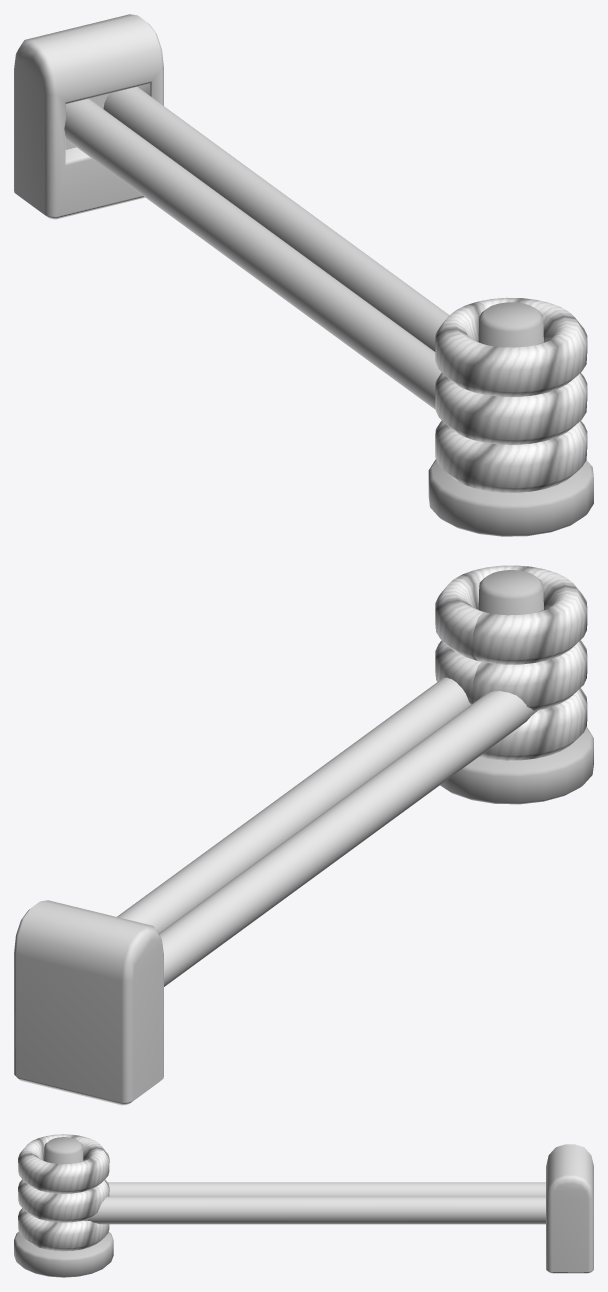
File: Barrier_1.fbx
3 views of the same model, one above another, from view 1: azimuth 30°, elevation 25°; view 2: azimuth 150°, elevation 25°; view 3: azimuth 270°, elevation 25° (orthographic). The views are drawn at different scales.
Parts seen in each view (by area): view 1: Barrier, Cylinder__1_, Barrier_2, Cylinder; view 2: Barrier, Barrier_2, Cylinder__1_, Cylinder; view 3: Cylinder, Barrier, Cylinder__1_, Barrier_2.
Boxes of the visible parts, box(x1,y1,x2,y2) form: Barrier: box(428, 297, 593, 536); Cylinder__1_: box(64, 98, 441, 409); Barrier_2: box(14, 14, 163, 219); Cylinder: box(103, 86, 449, 351); Barrier: box(435, 565, 593, 804); Barrier_2: box(14, 900, 163, 1105); Cylinder__1_: box(159, 691, 538, 986); Cylinder: box(117, 677, 471, 933); Cylinder: box(83, 1196, 545, 1224); Barrier: box(14, 1134, 113, 1277); Cylinder__1_: box(108, 1182, 545, 1196); Barrier_2: box(546, 1144, 593, 1273).
Size of the model in its own units: 13.33 by 16.75 by 77.57.
